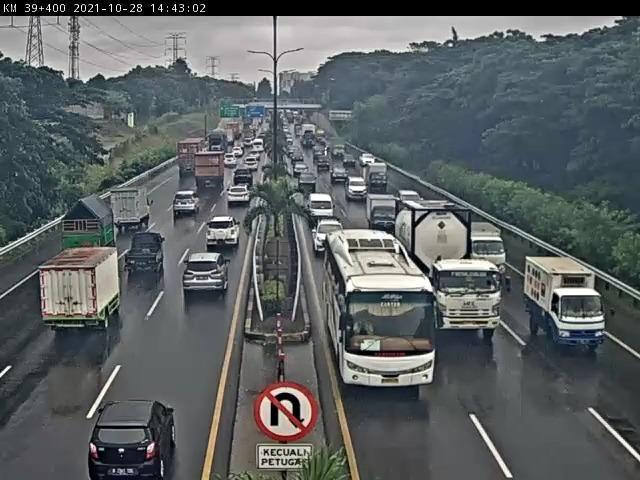bus: (324, 228, 443, 391)
car: (88, 400, 177, 480), (184, 252, 232, 298), (313, 222, 347, 258), (209, 213, 243, 242), (308, 198, 336, 228), (175, 191, 201, 216), (346, 178, 369, 204), (399, 190, 424, 213), (297, 174, 318, 194), (231, 182, 252, 201), (316, 156, 334, 178), (360, 154, 379, 173), (330, 168, 350, 186), (237, 165, 258, 181), (292, 165, 312, 181), (344, 156, 360, 171), (292, 150, 307, 165)
truck: (397, 201, 506, 341), (527, 255, 608, 352), (38, 247, 126, 332), (64, 193, 119, 262), (467, 223, 508, 280), (109, 187, 154, 231), (126, 234, 169, 276), (367, 194, 401, 234), (197, 153, 226, 191), (368, 164, 391, 195)
